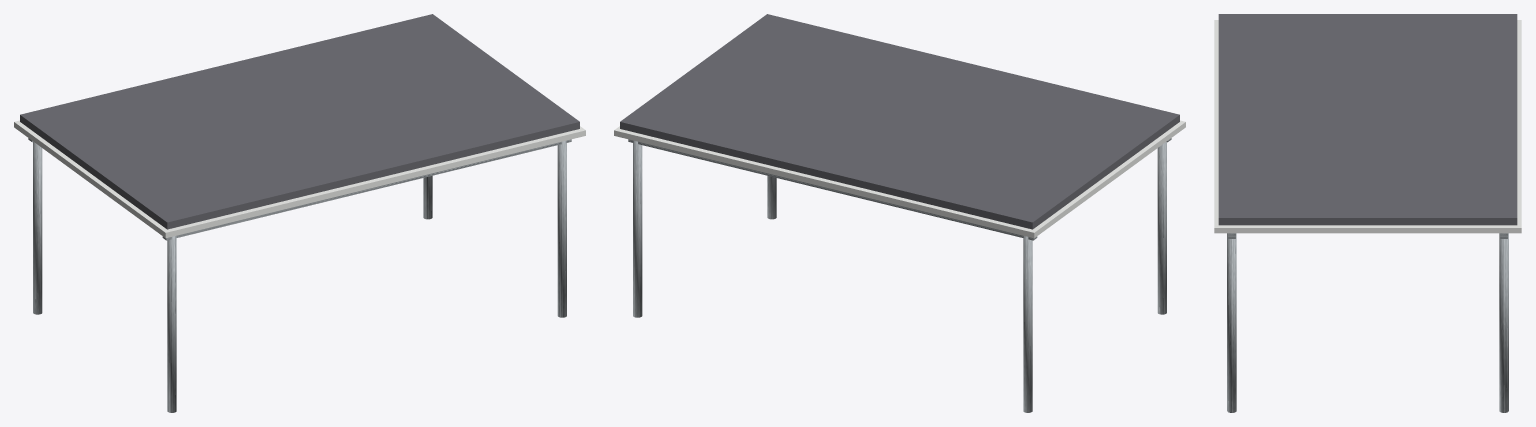
File: WK_ARCH_Carport.glb
The picture shows the model from 3 angles, left to right: view 1: azimuth 30°, elevation 25°; view 2: azimuth 150°, elevation 25°; view 3: azimuth 270°, elevation 25°; orthographic projection.
Parts seen in each view (by area): view 1: WK_ARCH_Carport_P01, WK_ARCH_Carport_P02, WK_ARCH_Carport_P03, WK_ARCH_Carport_P05, WK_ARCH_Carport_P04, WK_ARCH_Carport_P07; view 2: WK_ARCH_Carport_P01, WK_ARCH_Carport_P02, WK_ARCH_Carport_P04, WK_ARCH_Carport_P06, WK_ARCH_Carport_P03, WK_ARCH_Carport_P08; view 3: WK_ARCH_Carport_P01, WK_ARCH_Carport_P02, WK_ARCH_Carport_P05, WK_ARCH_Carport_P06.
Part boxes in pixels (left/top/right/bottom): WK_ARCH_Carport_P01: left=20, top=14, right=579, bottom=229; WK_ARCH_Carport_P02: left=14, top=120, right=585, bottom=238; WK_ARCH_Carport_P03: left=167, top=236, right=176, bottom=412; WK_ARCH_Carport_P05: left=557, top=141, right=566, bottom=317; WK_ARCH_Carport_P04: left=33, top=142, right=42, bottom=314; WK_ARCH_Carport_P07: left=162, top=139, right=571, bottom=240; WK_ARCH_Carport_P01: left=620, top=14, right=1179, bottom=229; WK_ARCH_Carport_P02: left=614, top=120, right=1185, bottom=238; WK_ARCH_Carport_P04: left=1023, top=236, right=1032, bottom=412; WK_ARCH_Carport_P06: left=633, top=141, right=642, bottom=317; WK_ARCH_Carport_P03: left=1157, top=142, right=1166, bottom=314; WK_ARCH_Carport_P08: left=628, top=139, right=1037, bottom=240; WK_ARCH_Carport_P01: left=1218, top=14, right=1517, bottom=225; WK_ARCH_Carport_P02: left=1214, top=20, right=1521, bottom=233; WK_ARCH_Carport_P05: left=1227, top=233, right=1236, bottom=412; WK_ARCH_Carport_P06: left=1499, top=233, right=1508, bottom=412.
Bounding box in the file's own units: 5.6 × 2.5 × 3.5.
3 materials, 1 textured.
